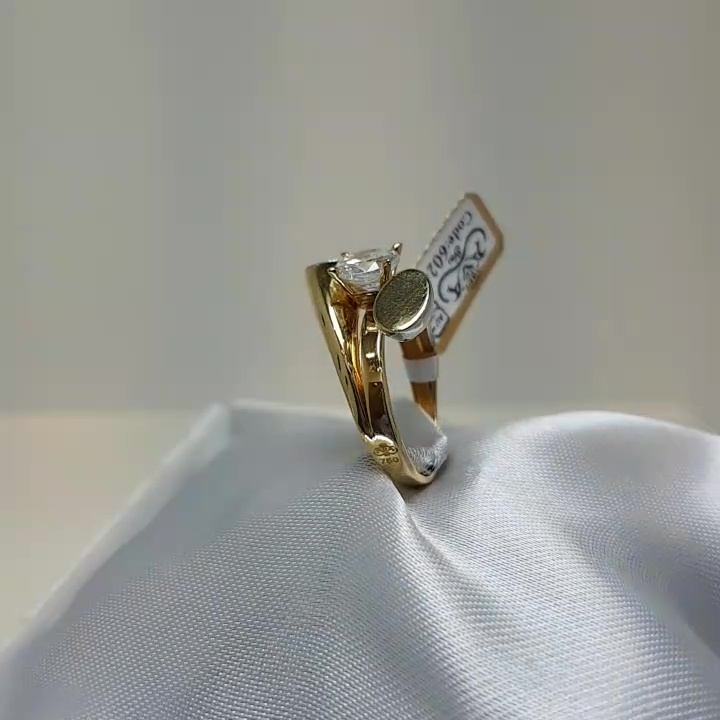Ring 7: (288, 211, 505, 504)
